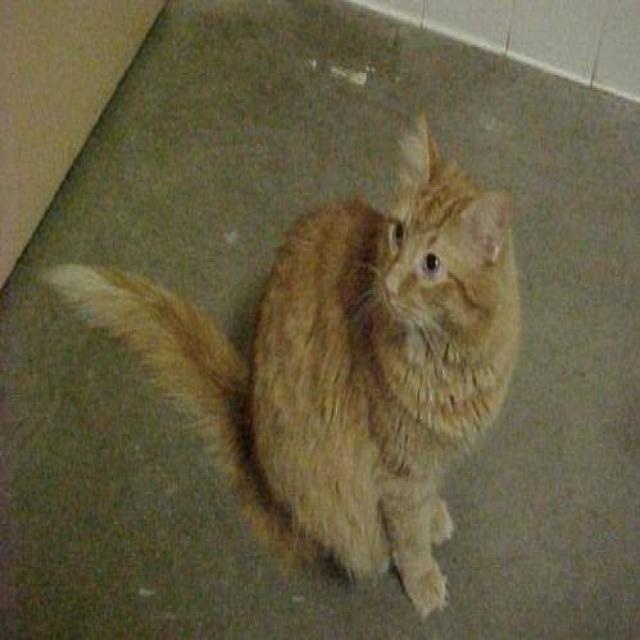cat: (40, 101, 522, 619)
